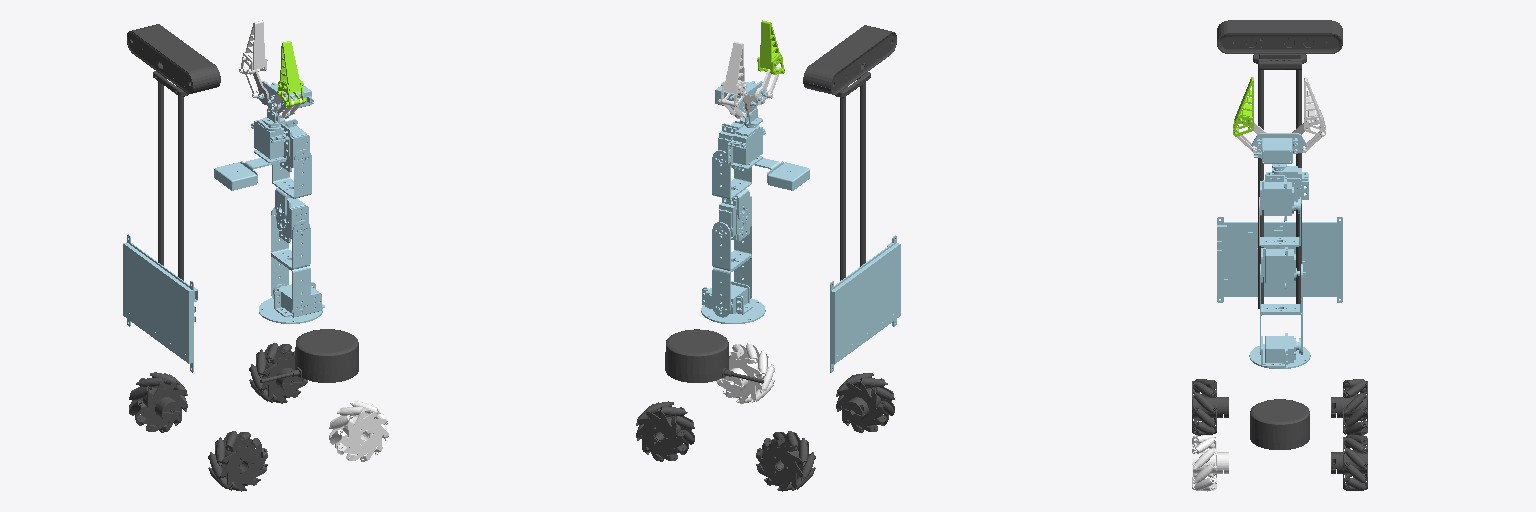
--- Render facts (derived) ---
The picture shows the robot from 3 angles, left to right: view 1: azimuth 30°, elevation 25°; view 2: azimuth 150°, elevation 25°; view 3: azimuth 270°, elevation 25°; orthographic projection.
Model mini_mec_moveit_six with 20 links and 19 joints (9 revolute, 6 continuous, 4 fixed), rooted at base_link, posed every joint at zero.
Visible links, largest first — view 1: camera_link, display_link, laser_link, j3_link, j1_link, rf_wheel_link, lb_wheel_link, rb_wheel_link, j2_link, lf_wheel_link, arm_base_link, j5_6_link (+2 smaller); view 2: camera_link, display_link, laser_link, j3_link, lb_wheel_link, rb_wheel_link, lf_wheel_link, j1_link, j2_link, rf_wheel_link, arm_base_link, j5_3_link (+2 smaller); view 3: display_link, camera_link, laser_link, j3_link, j2_link, rf_wheel_link, lf_wheel_link, lb_wheel_link, rb_wheel_link, arm_base_link, j4_link, j1_link (+2 smaller).
Boxes of the visible links, <box> form: camera_link: <box>127,24,220,280</box>; display_link: <box>123,234,197,372</box>; laser_link: <box>260,329,358,382</box>; j3_link: <box>214,119,309,190</box>; j1_link: <box>271,207,310,315</box>; rf_wheel_link: <box>329,401,388,461</box>; lb_wheel_link: <box>129,372,187,432</box>; rb_wheel_link: <box>208,431,267,491</box>; j2_link: <box>272,149,311,242</box>; lf_wheel_link: <box>249,343,307,403</box>; arm_base_link: <box>259,282,324,323</box>; j5_6_link: <box>277,41,306,106</box>; camera_link: <box>803,25,896,280</box>; display_link: <box>830,235,900,372</box>; laser_link: <box>665,329,763,383</box>; j3_link: <box>718,121,809,190</box>; lb_wheel_link: <box>756,431,815,491</box>; rb_wheel_link: <box>836,373,894,432</box>; lf_wheel_link: <box>636,401,694,461</box>; j1_link: <box>712,222,751,317</box>; j2_link: <box>712,150,751,241</box>; rf_wheel_link: <box>716,343,774,403</box>; arm_base_link: <box>701,281,765,323</box>; j5_3_link: <box>718,41,747,107</box>; display_link: <box>1217,217,1342,302</box>; camera_link: <box>1217,20,1342,308</box>; laser_link: <box>1250,399,1309,449</box>; j3_link: <box>1260,166,1308,221</box>; j2_link: <box>1259,197,1300,288</box>; rf_wheel_link: <box>1192,435,1228,491</box>; lf_wheel_link: <box>1331,435,1367,490</box>; lb_wheel_link: <box>1331,379,1367,435</box>; rb_wheel_link: <box>1192,379,1228,435</box>; arm_base_link: <box>1249,333,1310,368</box>; j4_link: <box>1251,133,1306,169</box>; j1_link: <box>1260,264,1302,354</box>.
Size in the robot's own frame: 0.2848 by 0.23 by 0.5708 metres.
Meshes: 20 distinct files referenced, 18 mesh visuals loaded (18 binary STL); not drawn: 2 (reference not matched to a file when rendering).

URDF robot description (mini_mec_moveit_six):
<?xml version="1.0" encoding="utf-8"?>
<!-- This URDF was automatically created by SolidWorks to URDF Exporter! Originally created by Stephen Brawner ([email redacted]) 
     Commit Version: 1.6.0-4-g7f85cfe  Build Version: 1.6.7995.38578
     For more information, please see http://wiki.ros.org/sw_urdf_exporter -->
<robot
  name="mini_mec_moveit_six">
  <link
    name="base_link">
    <inertial>
      <origin
        xyz="-0.0296888755216882 -0.0121204247659123 0.0779641219932054"
        rpy="0 0 0" />
      <mass
        value="1.14651188528159" />
      <inertia
        ixx="0.00173808491121711"
        ixy="-2.89236975893243E-06"
        ixz="-3.36385480173045E-07"
        iyy="0.00183521018049664"
        iyz="-9.10669562732213E-07"
        izz="0.00234886799055301" />
    </inertial>
    <visual>
      <origin
        xyz="0 0 0"
        rpy="0 0 0" />
      <geometry>
        <mesh
          filename="package://wheeltec_robot_urdf/meshes/mini_mec_moveit_six_meshes/base_link.STL" />
      </geometry>
      <material
        name="">
        <color
          rgba="0.741176470588235 0.901960784313726 0.956862745098039 1" />
      </material>
    </visual>
    <collision>
      <origin
        xyz="0 0 0"
        rpy="0 0 0" />
      <geometry>
        <mesh
          filename="package://wheeltec_robot_urdf/meshes/mini_mec_moveit_six_meshes/base_link.STL" />
      </geometry>
    </collision>
  </link>
  <link
    name="lf_wheel_link">
    <inertial>
      <origin
        xyz="-4.83478163084347E-05 -0.00361887872849295 2.36591801638722E-05"
        rpy="0 0 0" />
      <mass
        value="0.056732512719511" />
      <inertia
        ixx="2.10255136964013E-05"
        ixy="-1.10234792420817E-08"
        ixz="3.75231887157679E-09"
        iyy="3.39275378717877E-05"
        iyz="-8.51218162771756E-10"
        izz="2.10059722946961E-05" />
    </inertial>
    <visual>
      <origin
        xyz="0 0 0"
        rpy="0 0 0" />
      <geometry>
        <mesh
          filename="package://wheeltec_robot_urdf/meshes/mini_mec_moveit_six_meshes/lf_wheel_link.STL" />
      </geometry>
      <material
        name="">
        <color
          rgba="0.376470588235294 0.376470588235294 0.376470588235294 1" />
      </material>
    </visual>
    <collision>
      <origin
        xyz="0 0 0"
        rpy="0 0 0" />
      <geometry>
        <mesh
          filename="package://wheeltec_robot_urdf/meshes/mini_mec_moveit_six_meshes/lf_wheel_link.STL" />
      </geometry>
    </collision>
  </link>
  <joint
    name="lf_wheel_joint"
    type="continuous">
    <origin
      xyz="0.094516 0.099762 -0.0373"
      rpy="0 0 0" />
    <parent
      link="base_link" />
    <child
      link="lf_wheel_link" />
    <axis
      xyz="0 1 0" />
  </joint>
  <link
    name="lb_wheel_link">
    <inertial>
      <origin
        xyz="-4.83408971907184E-05 -0.0036152079973938 2.36829928017754E-05"
        rpy="0 0 0" />
      <mass
        value="0.0567315810088748" />
      <inertia
        ixx="2.10250586977452E-05"
        ixy="-1.10244915780731E-08"
        ixz="3.7441915878383E-09"
        iyy="3.39268129155122E-05"
        iyz="-8.45806786063072E-10"
        izz="2.10055351702049E-05" />
    </inertial>
    <visual>
      <origin
        xyz="0 0 0"
        rpy="0 0 0" />
      <geometry>
        <mesh
          filename="package://wheeltec_robot_urdf/meshes/mini_mec_moveit_six_meshes/lb_wheel_link.STL" />
      </geometry>
      <material
        name="">
        <color
          rgba="0.376470588235294 0.376470588235294 0.376470588235294 1" />
      </material>
    </visual>
    <collision>
      <origin
        xyz="0 0 0"
        rpy="0 0 0" />
      <geometry>
        <mesh
          filename="package://wheeltec_robot_urdf/meshes/mini_mec_moveit_six_meshes/lb_wheel_link.STL" />
      </geometry>
    </collision>
  </link>
  <joint
    name="lb_wheel_joint"
    type="continuous">
    <origin
      xyz="-0.078484 0.099742 -0.0373"
      rpy="0 0 0" />
    <parent
      link="base_link" />
    <child
      link="lb_wheel_link" />
    <axis
      xyz="0 1 0" />
  </joint>
  <link
    name="rb_wheel_link">
    <inertial>
      <origin
        xyz="4.83478163075257E-05 0.00361887872708191 2.36591801652045E-05"
        rpy="0 0 0" />
      <mass
        value="0.0567325127195109" />
      <inertia
        ixx="2.10255136964013E-05"
        ixy="-1.10234792421081E-08"
        ixz="-3.75231887157356E-09"
        iyy="3.39275378717876E-05"
        iyz="8.51218162658556E-10"
        izz="2.10059722946961E-05" />
    </inertial>
    <visual>
      <origin
        xyz="0 0 0"
        rpy="0 0 0" />
      <geometry>
        <mesh
          filename="package://wheeltec_robot_urdf/meshes/mini_mec_moveit_six_meshes/rb_wheel_link.STL" />
      </geometry>
      <material
        name="">
        <color
          rgba="0.376470588235294 0.376470588235294 0.376470588235294 1" />
      </material>
    </visual>
    <collision>
      <origin
        xyz="0 0 0"
        rpy="0 0 0" />
      <geometry>
        <mesh
          filename="package://wheeltec_robot_urdf/meshes/mini_mec_moveit_six_meshes/rb_wheel_link.STL" />
      </geometry>
    </collision>
  </link>
  <joint
    name="rb_wheel_joint"
    type="continuous">
    <origin
      xyz="-0.078484 -0.098262 -0.0373"
      rpy="0 0 0" />
    <parent
      link="base_link" />
    <child
      link="rb_wheel_link" />
    <axis
      xyz="0 -1 0" />
  </joint>
  <link
    name="rf_wheel_link">
    <inertial>
      <origin
        xyz="4.83408971896152E-05 0.00361520799598672 2.36829928031146E-05"
        rpy="0 0 0" />
      <mass
        value="0.0567315810088749" />
      <inertia
        ixx="2.10250586977452E-05"
        ixy="-1.10244915780761E-08"
        ixz="-3.74419158783657E-09"
        iyy="3.39268129155122E-05"
        iyz="8.45806785955272E-10"
        izz="2.10055351702048E-05" />
    </inertial>
    <visual>
      <origin
        xyz="0 0 0"
        rpy="0 0 0" />
      <geometry>
        <mesh
          filename="package://wheeltec_robot_urdf/meshes/mini_mec_moveit_six_meshes/rf_wheel_link.STL" />
      </geometry>
      <material
        name="">
        <color
          rgba="1 1 1 1" />
      </material>
    </visual>
    <collision>
      <origin
        xyz="0 0 0"
        rpy="0 0 0" />
      <geometry>
        <mesh
          filename="package://wheeltec_robot_urdf/meshes/mini_mec_moveit_six_meshes/rf_wheel_link.STL" />
      </geometry>
    </collision>
  </link>
  <joint
    name="rf_wheel_joint"
    type="continuous">
    <origin
      xyz="0.094516 -0.098242 -0.0373"
      rpy="0 0 0" />
    <parent
      link="base_link" />
    <child
      link="rf_wheel_link" />
    <axis
      xyz="0 -1 0" />
  </joint>
  <link
    name="controller_link">
    <inertial>
      <origin
        xyz="0.034901483627992 0.0623782166831875 -0.0794399853511832"
        rpy="0 0 0" />
      <mass
        value="0.00107921954114689" />
      <inertia
        ixx="2.26830021861909E-07"
        ixy="3.94092662514644E-09"
        ixz="-5.23015112125999E-10"
        iyy="1.16330109995669E-08"
        iyz="3.6921298272068E-10"
        izz="2.2565704410341E-07" />
    </inertial>
    <visual>
      <origin
        xyz="0 0 0"
        rpy="0 0 0" />
      <geometry>
        <mesh
          filename="package://wheeltec_robot_urdf/meshes/mini_mec_moveit_six_meshes/controller_link.STL" />
      </geometry>
      <material
        name="">
        <color
          rgba="0.741176470588235 0.901960784313726 0.956862745098039 1" />
      </material>
    </visual>
    <collision>
      <origin
        xyz="0 0 0"
        rpy="0 0 0" />
      <geometry>
        <mesh
          filename="package://wheeltec_robot_urdf/meshes/mini_mec_moveit_six_meshes/controller_link.STL" />
      </geometry>
    </collision>
  </link>
  <joint
    name="controller_joint"
    type="fixed">
    <origin
      xyz="-0.03169 -0.033951 0.088"
      rpy="0 0 0" />
    <parent
      link="base_link" />
    <child
      link="controller_link" />
    <axis
      xyz="0 0 0" />
  </joint>
  <link
    name="display_link">
    <inertial>
      <origin
        xyz="1.5130574199107E-07 3.30664861630803E-07 -3.73103361567262E-07"
        rpy="0 0 0" />
      <mass
        value="0.119770745546687" />
      <inertia
        ixx="0.000363811691945073"
        ixy="-6.65323888636356E-09"
        ixz="1.01680375190422E-07"
        iyy="0.000100832070123019"
        iyz="-2.99891368086007E-09"
        izz="0.000263958028629181" />
    </inertial>
    <visual>
      <origin
        xyz="0 0 0"
        rpy="0 0 0" />
      <geometry>
        <mesh
          filename="package://wheeltec_robot_urdf/meshes/mini_mec_moveit_six_meshes/display_link.STL" />
      </geometry>
      <material
        name="">
        <color
          rgba="0.741176470588235 0.901960784313726 0.956862745098039 1" />
      </material>
    </visual>
    <collision>
      <origin
        xyz="0 0 0"
        rpy="0 0 0" />
      <geometry>
        <mesh
          filename="package://wheeltec_robot_urdf/meshes/mini_mec_moveit_six_meshes/display_link.STL" />
      </geometry>
    </collision>
  </link>
  <joint
    name="display_joint"
    type="fixed">
    <origin
      xyz="-0.13512 0.00035436 0.15216"
      rpy="0 0 0" />
    <parent
      link="base_link" />
    <child
      link="display_link" />
    <axis
      xyz="0 0 0" />
  </joint>
  <link
    name="camera_link">
    <inertial>
      <origin
        xyz="0.00141867601076839 -5.76599665831623E-06 -0.0763242738797926"
        rpy="0 0 0" />
      <mass
        value="0.110744310873393" />
      <inertia
        ixx="0.000539796835796716"
        ixy="1.1489777270673E-07"
        ixz="4.35327058130701E-09"
        iyy="0.000425499851928698"
        iyz="-1.35797371562192E-08"
        izz="0.000138232334951022" />
    </inertial>
    <visual>
      <origin
        xyz="0 0 0"
        rpy="0 0 0" />
      <geometry>
        <mesh
          filename="package://wheeltec_robot_urdf/meshes/mini_mec_moveit_six_meshes/camera_link.STL" />
      </geometry>
      <material
        name="">
        <color
          rgba="0.376470588235294 0.376470588235294 0.376470588235294 1" />
      </material>
    </visual>
    <collision>
      <origin
        xyz="0 0 0"
        rpy="0 0 0" />
      <geometry>
        <mesh
          filename="package://wheeltec_robot_urdf/meshes/mini_mec_moveit_six_meshes/camera_link.STL" />
      </geometry>
    </collision>
  </link>
  <joint
    name="camera_joint"
    type="fixed">
    <origin
      xyz="-0.11427 0.00079536 0.48125"
      rpy="0 0 0" />
    <parent
      link="base_link" />
    <child
      link="camera_link" />
    <axis
      xyz="0 0 0" />
  </joint>
  <link
    name="laser_link">
    <inertial>
      <origin
        xyz="0.00250630311492663 -4.56584256736114E-06 0.00608265171397953"
        rpy="0 0 0" />
      <mass
        value="0.0374307357732358" />
      <inertia
        ixx="2.8047645024101E-05"
        ixy="-2.1990047897492E-09"
        ixz="1.07118438707558E-06"
        iyy="3.36164872384694E-05"
        iyz="6.83962980149532E-10"
        izz="4.50845485882503E-05" />
    </inertial>
    <visual>
      <origin
        xyz="0 0 0"
        rpy="0 0 0" />
      <geometry>
        <mesh
          filename="package://wheeltec_robot_urdf/meshes/mini_mec_moveit_six_meshes/laser.STL" />
      </geometry>
      <material
        name="">
        <color
          rgba="0.376470588235294 0.376470588235294 0.376470588235294 1" />
      </material>
    </visual>
    <collision>
      <origin
        xyz="0 0 0"
        rpy="0 0 0" />
      <geometry>
        <mesh
          filename="package://wheeltec_robot_urdf/meshes/mini_mec_moveit_six_meshes/laser.STL" />
      </geometry>
    </collision>
  </link>
  <joint
    name="laser_joint"
    type="fixed">
    <origin
      xyz="0.10608 0.00075001 0.016024"
      rpy="0 0 3.1416" />
    <parent
      link="base_link" />
    <child
      link="laser_link" />
    <axis
      xyz="0 0 0" />
  </joint>
  <link
    name="arm_base_link">
    <inertial>
      <origin
        xyz="0.0081832499847707 -0.000757091649556618 0.00965431048481993"
        rpy="0 0 0" />
      <mass
        value="0.0478693828907353" />
      <inertia
        ixx="1.05788936812131E-05"
        ixy="1.52166973044416E-07"
        ixz="-6.11635529866933E-11"
        iyy="1.13546709432321E-05"
        iyz="1.450817793432E-07"
        izz="1.91682148249401E-05" />
    </inertial>
    <visual>
      <origin
        xyz="0 0 0"
        rpy="0 0 0" />
      <geometry>
        <mesh
          filename="package://wheeltec_robot_urdf/meshes/mini_mec_moveit_six_meshes/arm_base_link.STL" />
      </geometry>
      <material
        name="">
        <color
          rgba="0.741176470588235 0.901960784313726 0.956862745098039 1" />
      </material>
    </visual>
    <collision>
      <origin
        xyz="0 0 0"
        rpy="0 0 0" />
      <geometry>
        <mesh
          filename="package://wheeltec_robot_urdf/meshes/mini_mec_moveit_six_meshes/arm_base_link.STL" />
      </geometry>
    </collision>
  </link>
  <joint
    name="arm_base_joint"
    type="continuous">
    <origin
      xyz="0.0540156455792039 0.000750355909653749 0.100000000000001"
      rpy="0 0 0" />
    <parent
      link="base_link" />
    <child
      link="arm_base_link" />
    <axis
      xyz="0 0 -1" />
    <limit
      effort="100"
      velocity="0" />
  </joint>
  <link
    name="j1_link">
    <inertial>
      <origin
        xyz="1.05762620883354E-13 -0.0496519077290486 -0.023785819034668"
        rpy="0 0 0" />
      <mass
        value="0.0173546467959637" />
      <inertia
        ixx="1.62161311115777E-05"
        ixy="-9.20092651762984E-20"
        ixz="3.89331003137053E-17"
        iyy="1.04896423510406E-05"
        iyz="-7.75720131899139E-20"
        izz="7.52372716212608E-06" />
    </inertial>
    <visual>
      <origin
        xyz="0 0 0"
        rpy="0 0 0" />
      <geometry>
        <mesh
          filename="package://wheeltec_robot_urdf/meshes/mini_mec_moveit_six_meshes/j1_link.STL" />
      </geometry>
      <material
        name="">
        <color
          rgba="0.741176470588235 0.901960784313726 0.956862745098039 1" />
      </material>
    </visual>
    <collision>
      <origin
        xyz="0 0 0"
        rpy="0 0 0" />
      <geometry>
        <mesh
          filename="package://wheeltec_robot_urdf/meshes/mini_mec_moveit_six_meshes/j1_link.STL" />
      </geometry>
    </collision>
  </link>
  <joint
    name="j1_joint"
    type="revolute">
    <origin
      xyz="0.000499999999880901 0.0266000000000027 0.0134999999999992"
      rpy="-1.5707963267949 0 0" />
    <parent
      link="arm_base_link" />
    <child
      link="j1_link" />
    <axis
      xyz="0 0 -1" />
    <limit
      lower="-0.53"
      upper="0.53"
      effort="100"
      velocity="0" />
  </joint>
  <link
    name="j2_link">
    <inertial>
      <origin
        xyz="-0.00112398586219571 -0.0221504143556053 -0.0297699776837705"
        rpy="0 0 0" />
      <mass
        value="0.0497610150256754" />
      <inertia
        ixx="1.97699131875994E-05"
        ixy="1.29484660544959E-07"
        ixz="1.45081779379396E-07"
        iyy="1.21511693273601E-05"
        iyz="-1.52071961891119E-07"
        izz="1.16329572702924E-05" />
    </inertial>
    <visual>
      <origin
        xyz="0 0 0"
        rpy="0 0 0" />
      <geometry>
        <mesh
          filename="package://wheeltec_robot_urdf/meshes/mini_mec_moveit_six_meshes/j2_link.STL" />
      </geometry>
      <material
        name="">
        <color
          rgba="0.741176470588235 0.901960784313726 0.956862745098039 1" />
      </material>
    </visual>
    <collision>
      <origin
        xyz="0 0 0"
        rpy="0 0 0" />
      <geometry>
        <mesh
          filename="package://wheeltec_robot_urdf/meshes/mini_mec_moveit_six_meshes/j2_link.STL" />
      </geometry>
    </collision>
  </link>
  <joint
    name="j2_joint"
    type="revolute">
    <origin
      xyz="0 -0.105 0.002900000000003"
      rpy="0 0 0" />
    <parent
      link="j1_link" />
    <child
      link="j2_link" />
    <axis
      xyz="0 0 1" />
    <limit
      lower="-0.53"
      upper="0.53"
      effort="1000"
      velocity="0" />
  </joint>
  <link
    name="j3_link">
    <inertial>
      <origin
        xyz="-0.0239333661802861 -0.00969754605329431 -0.025542221720815"
        rpy="0 0 0" />
      <mass
        value="0.0918071748756552" />
      <inertia
        ixx="2.53903647924119E-05"
        ixy="2.89878404723158E-07"
        ixz="1.45022543129927E-07"
        iyy="1.89887482660551E-05"
        iyz="-3.0414381006784E-07"
        izz="1.667608201133E-05" />
    </inertial>
    <visual>
      <origin
        xyz="0 0 0"
        rpy="0 0 0" />
      <geometry>
        <mesh
          filename="package://wheeltec_robot_urdf/meshes/mini_mec_moveit_six_meshes/j3_link.STL" />
      </geometry>
      <material
        name="">
        <color
          rgba="0.741176470588235 0.901960784313726 0.956862745098039 1" />
      </material>
    </visual>
    <collision>
      <origin
        xyz="0 0 0"
        rpy="0 0 0" />
      <geometry>
        <mesh
          filename="package://wheeltec_robot_urdf/meshes/mini_mec_moveit_six_meshes/j3_link.STL" />
      </geometry>
    </collision>
  </link>
  <joint
    name="j3_joint"
    type="revolute">
    <origin
      xyz="0.000999999999999127 -0.0975000000000001 -0.00149999999999276"
      rpy="0 0 0" />
    <parent
      link="j2_link" />
    <child
      link="j3_link" />
    <axis
      xyz="0 0 1" />
    <limit
      lower="-0.53"
      upper="0.53"
      effort="100"
      velocity="0" />
  </joint>
  <link
    name="j4_link">
    <inertial>
      <origin
        xyz="0.0173560180385979 -0.00206781690254904 0.0293811881951073"
        rpy="0 0 0" />
      <mass
        value="0.0422538685356795" />
      <inertia
        ixx="8.15813641638465E-06"
        ixy="-1.64540581409679E-09"
        ixz="-9.56284779158069E-11"
        iyy="5.71887095091931E-06"
        iyz="-1.62969767997201E-08"
        izz="1.08022333895947E-05" />
    </inertial>
    <visual>
      <origin
        xyz="0 0 0"
        rpy="0 0 0" />
      <geometry>
        <mesh
          filename="package://wheeltec_robot_urdf/meshes/mini_mec_moveit_six_meshes/j4_link.STL" />
      </geometry>
      <material
        name="">
        <color
          rgba="0.741176470588235 0.901960784313726 0.956862745098039 1" />
      </material>
    </visual>
    <collision>
      <origin
        xyz="0 0 0"
        rpy="0 0 0" />
      <geometry>
        <mesh
          filename="package://wheeltec_robot_urdf/meshes/mini_mec_moveit_six_meshes/j4_link.STL" />
      </geometry>
    </collision>
  </link>
  <joint
    name="j4_joint"
    type="continuous">
    <origin
      xyz="-0.0269999999998576 -0.0471000000000026 -0.0290000000001196"
      rpy="1.5707963267949 0 0" />
    <parent
      link="j3_link" />
    <child
      link="j4_link" />
    <axis
      xyz="0 0 -1" />
    <limit
      lower="-0.53"
      upper="0.53"
      effort="100"
      velocity="0" />
  </joint>
  <link
    name="j5_1_link">
    <inertial>
      <origin
        xyz="-0.00572555918548286 0.00585469593125371 -0.00372761058926598"
        rpy="0 0 0" />
      <mass
        value="0.00213593517178801" />
      <inertia
        ixx="1.87444134005243E-07"
        ixy="1.41567125878548E-07"
        ixz="7.91411550574557E-19"
        iyy="1.81128628363715E-07"
        iyz="-6.24960520904419E-19"
        izz="3.65421219488836E-07" />
    </inertial>
    <visual>
      <origin
        xyz="0 0 0"
        rpy="0 0 0" />
      <geometry>
        <mesh
          filename="package://wheeltec_robot_urdf/meshes/mini_mec_moveit_six_meshes/j5_1_link.STL" />
      </geometry>
      <material
        name="">
        <color
          rgba="0.749019607843137 0.749019607843137 0.749019607843137 1" />
      </material>
    </visual>
    <collision>
      <origin
        xyz="0 0 0"
        rpy="0 0 0" />
      <geometry>
        <mesh
          filename="package://wheeltec_robot_urdf/meshes/mini_mec_moveit_six_meshes/j5_1_link.STL" />
      </geometry>
    </collision>
  </link>
  <joint
    name="j5_1_joint"
    type="revolute">
    <origin
      xyz="-0.00950000000005606 0.0124999999999585 0.0314000000000026"
      rpy="1.5707963267949 0 -1.5707963267949" />
    <parent
      link="j4_link" />
    <child
      link="j5_1_link" />
    <axis
      xyz="0 0 1" />
    <limit
      lower="-0.53"
      upper="0.53"
      effort="100"
      velocity="0" />
  </joint>
  <link
    name="j5_3_link">
    <inertial>
      <origin
        xyz="-0.00614995351029321 0.019277954919009 -0.00631635581867922"
        rpy="0 0 0" />
      <mass
        value="0.0110869919561473" />
      <inertia
        ixx="2.26639573880165E-06"
        ixy="-3.12169922164521E-07"
        ixz="6.32741451628199E-14"
        iyy="7.09382735241359E-07"
        iyz="4.47081504870701E-13"
        izz="2.52356011937648E-06" />
    </inertial>
    <visual>
      <origin
        xyz="0 0 0"
        rpy="0 0 0" />
      <geometry>
        <mesh
          filename="package://wheeltec_robot_urdf/meshes/mini_mec_moveit_six_meshes/j5_3_link.STL" />
      </geometry>
      <material
        name="">
        <color
          rgba="1 1 1 1" />
      </material>
    </visual>
    <collision>
      <origin
        xyz="0 0 0"
        rpy="0 0 0" />
      <geometry>
        <mesh
          filename="package://wheeltec_robot_urdf/meshes/mini_mec_moveit_six_meshes/j5_3_link.STL" />
      </geometry>
    </collision>
  </link>
  <joint
    name="j5_3_joint"
    type="revolute">
    <origin
      xyz="-0.0244712312864057 0.0250231660532181 -0.00199999999988934"
      rpy="0 0 0" />
    <parent
      link="j5_1_link" />
    <child
      link="j5_3_link" />
    <axis
      xyz="0 0 -1" />
    <limit
      lower="-0.53"
      upper="0.53"
      effort="100"
      velocity="0" />
  </joint>
  <link
    name="j5_2_link">
    <inertial>
      <origin
        xyz="-0.00955868590669207 0.00886703275651302 -0.00384186782830431"
        rpy="0 0 0" />
      <mass
        value="0.00171507700394649" />
      <inertia
        ixx="9.92059326668174E-08"
        ixy="8.30022521497622E-08"
        ixz="3.43995999117032E-19"
        iyy="9.55030866459721E-08"
        iyz="-3.68477848482082E-19"
        izz="1.7676083555391E-07" />
    </inertial>
    <visual>
      <origin
        xyz="0 0 0"
        rpy="0 0 0" />
      <geometry>
        <mesh
          filename="package://wheeltec_robot_urdf/meshes/mini_mec_moveit_six_meshes/j5_2_link.STL" />
      </geometry>
      <material
        name="">
        <color
          rgba="1 1 1 1" />
      </material>
    </visual>
    <collision>
      <origin
        xyz="0 0 0"
        rpy="0 0 0" />
      <geometry>
        <mesh
          filename="package://wheeltec_robot_urdf/meshes/mini_mec_moveit_six_meshes/j5_2_link.STL" />
      </geometry>
    </collision>
  </link>
  <joint
    name="j5_2_joint"
    type="revolute">
    <origin
      xyz="-0.00450000000014879 0.0327033913468776 0.0240465669185007"
      rpy="1.5707963267949 0 -1.5707963267949" />
    <parent
      link="j4_link" />
    <child
      link="j5_2_link" />
    <axis
      xyz="0 0 1" />
    <limit
      lower="-0.53"
      upper="0.53"
      effort="100"
      velocity="0" />
  </joint>
  <link
    name="j5_4_link">
    <inertial>
      <origin
        xyz="0.00492232282861062 0.00518436384927512 -0.00237697606759489"
        rpy="0 0 0" />
      <mass
        value="0.00244011202649205" />
      <inertia
        ixx="1.93470277305373E-07"
        ixy="-1.30296235803104E-07"
        ixz="7.84382384891269E-19"
        iyy="1.79948169722527E-07"
        iyz="5.92276822302E-19"
        izz="3.67328145128803E-07" />
    </inertial>
    <visual>
      <origin
        xyz="0 0 0"
        rpy="0 0 0" />
      <geometry>
        <mesh
          filename="package://wheeltec_robot_urdf/meshes/mini_mec_moveit_six_meshes/j5_4_link.STL" />
      </geometry>
      <material
        name="">
        <color
          rgba="1 1 1 1" />
      </material>
    </visual>
    <collision>
      <origin
        xyz="0 0 0"
        rpy="0 0 0" />
      <geometry>
        <mesh
          filename="package://wheeltec_robot_urdf/meshes/mini_mec_moveit_six_meshes/j5_4_link.STL" />
      </geometry>
    </collision>
  </link>
  <joint
    name="j5_4_joint"
    type="revolute">
    <origin
      xyz="-0.00729999999994635 -0.0125000000000316 0.0314000000000044"
      rpy="1.5707963267949 0 -1.5707963267949" />
    <parent
      link="j4_link" />
    <child
      link="j5_4_link" />
    <axis
      xyz="0 0 1" />
    <limit
      lower="-0.53"
      upper="0.53"
      effort="100"
      velocity="0" />
  </joint>
  <link
    name="j5_6_link">
    <inertial>
      <origin
        xyz="0.00658804624512324 0.0193552201367236 -0.00631635545313103"
        rpy="0 0 0" />
      <mass
        value="0.0110869938441042" />
      <inertia
        ixx="2.26638567960651E-06"
        ixy="3.1220771859092E-07"
        ixz="-3.99331673617301E-14"
        iyy="7.09396223566294E-07"
        iyz="3.44196934355857E-13"
        izz="2.52356347882992E-06" />
    </inertial>
    <visual>
      <origin
        xyz="0 0 0"
        rpy="0 0 0" />
      <geometry>
        <mesh
          filename="package://wheeltec_robot_urdf/meshes/mini_mec_moveit_six_meshes/j5_6_link.STL" />
      </geometry>
      <material
        name="">
        <color
          rgba="0.686274509803922 1 0.231372549019608 1" />
      </material>
    </visual>
    <collision>
      <origin
        xyz="0 0 0"
        rpy="0 0 0" />
      <geometry>
        <mesh
          filename="package://wheeltec_robot_urdf/meshes/mini_mec_moveit_six_meshes/j5_6_link.STL" />
      </geometry>
    </collision>
  </link>
  <joint
    name="j5_6_joint"
    type="revolute">
    <origin
      xyz="0.0240989659741492 0.0253818801308506 0.000199999999890926"
      rpy="0 0 0" />
    <parent
      link="j5_4_link" />
    <child
      link="j5_6_link" />
    <axis
      xyz="0 0 -1" />
    <limit
      lower="-0.53"
      upper="0.53"
      effort="100"
      velocity="0" />
  </joint>
  <link
    name="j5_5_link">
    <inertial>
      <origin
        xyz="0.00857351325734526 0.00805509859121184 -0.00399742509852002"
        rpy="0 0 0" />
      <mass
        value="0.0016208292243388" />
      <inertia
        ixx="1.01291558156894E-07"
        ixy="-8.29113514522286E-08"
        ixz="3.38520912574886E-19"
        iyy="9.26870408639351E-08"
        iyz="3.74908612297965E-19"
        izz="1.76077539151754E-07" />
    </inertial>
    <visual>
      <origin
        xyz="0 0 0"
        rpy="0 0 0" />
      <geometry>
        <mesh
          filename="package://wheeltec_robot_urdf/meshes/mini_mec_moveit_six_meshes/j5_5_link.STL" />
      </geometry>
      <material
        name="">
        <color
          rgba="1 1 1 1" />
      </material>
    </visual>
    <collision>
      <origin
        xyz="0 0 0"
        rpy="0 0 0" />
      <geometry>
        <mesh
          filename="package://wheeltec_robot_urdf/meshes/mini_mec_moveit_six_meshes/j5_5_link.STL" />
      </geometry>
    </collision>
  </link>
  <joint
    name="j5_5_joint"
    type="revolute">
    <origin
      xyz="-0.00449999999985631 -0.0327033913469193 0.0240465669185028"
      rpy="1.5707963267949 0 -1.5707963267949" />
    <parent
      link="j4_link" />
    <child
      link="j5_5_link" />
    <axis
      xyz="0 0 1" />
    <limit
      lower="-0.53"
      upper="0.53"
      effort="100"
      velocity="0" />
  </joint>
</robot>
